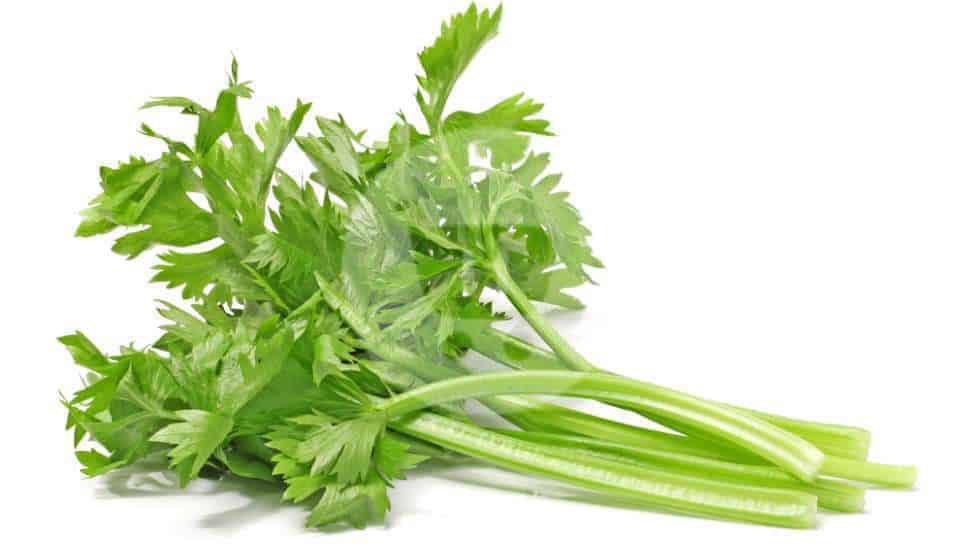Seledri: (24, 19, 931, 544)
